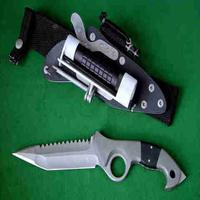knife: (10, 122, 191, 188)
